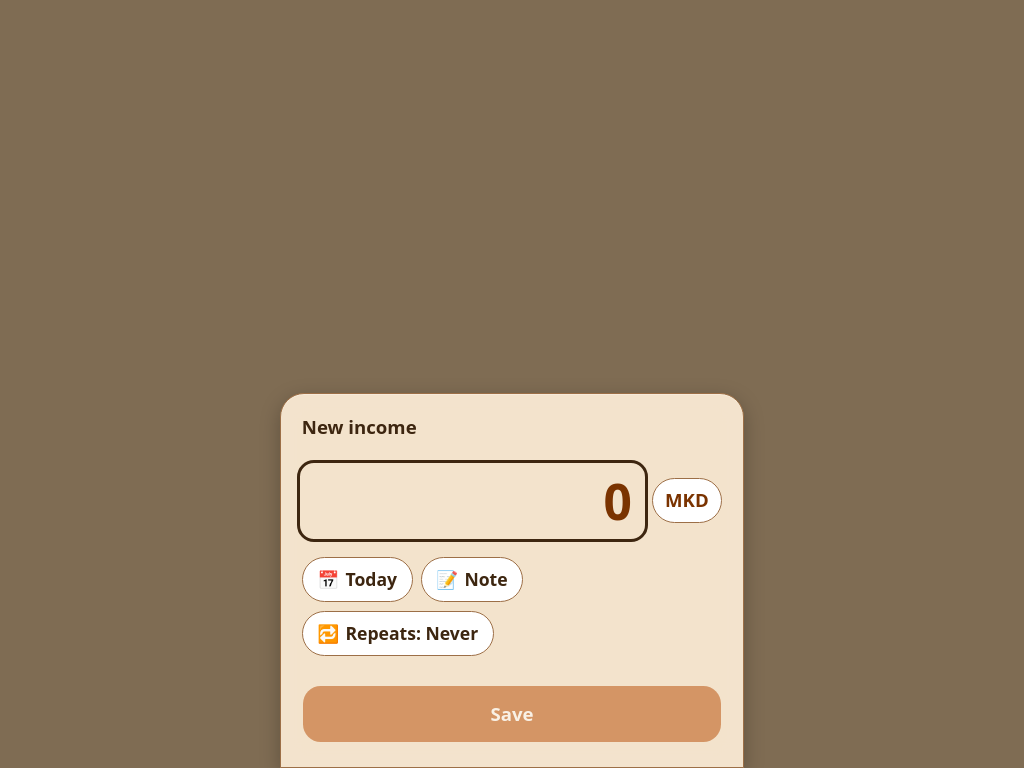
Test case: PersonalIncomeSheet, refused saves › shows the translated message for PERSONAL_ENTRY_AMOUNT_TOO_LARGE above Save
The image size is (1024, 768).
Step 1. Type "65000" into the field named "Amount" → (473, 501), box x1=300 y1=463 x2=646 y2=539
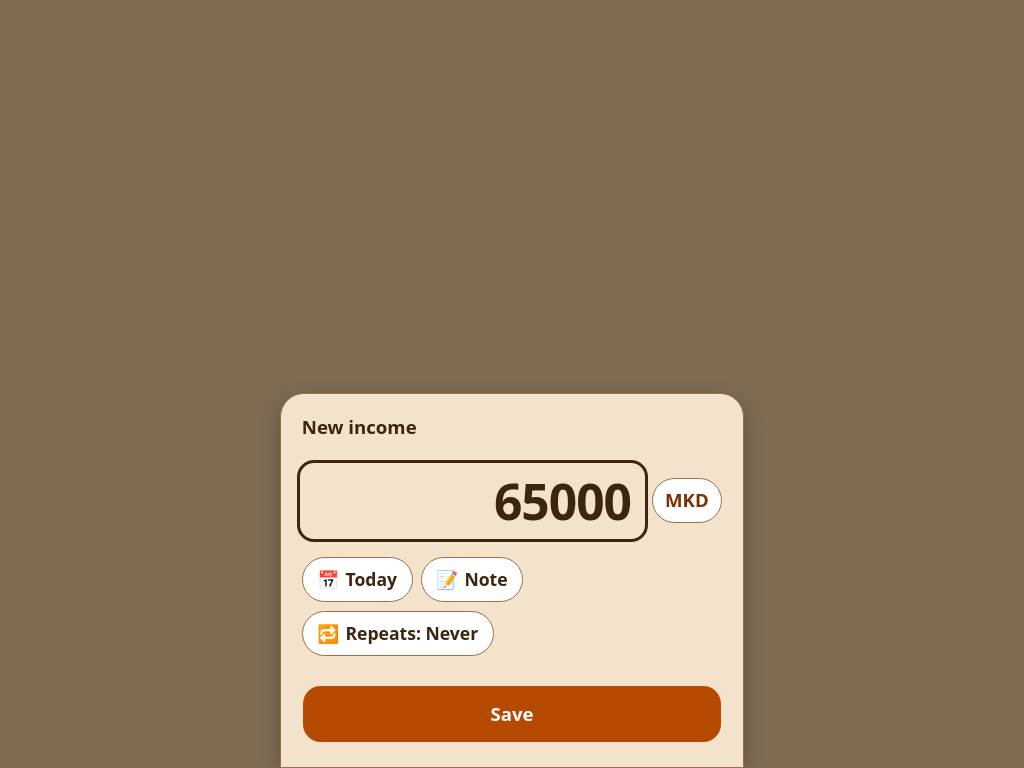
Step 2. Click the button "📝 Note" → (472, 580), box x1=421 y1=557 x2=523 y2=602
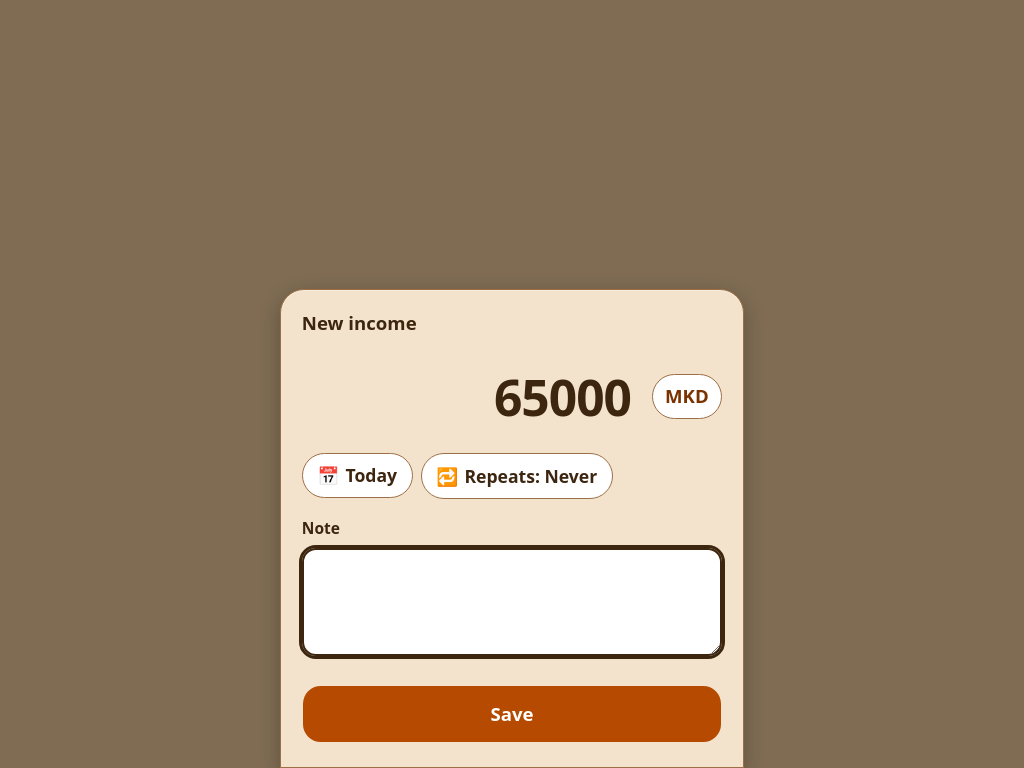
Step 3. Type "Salary" into the text box labelled "Note" → (512, 602), box x1=302 y1=548 x2=722 y2=656
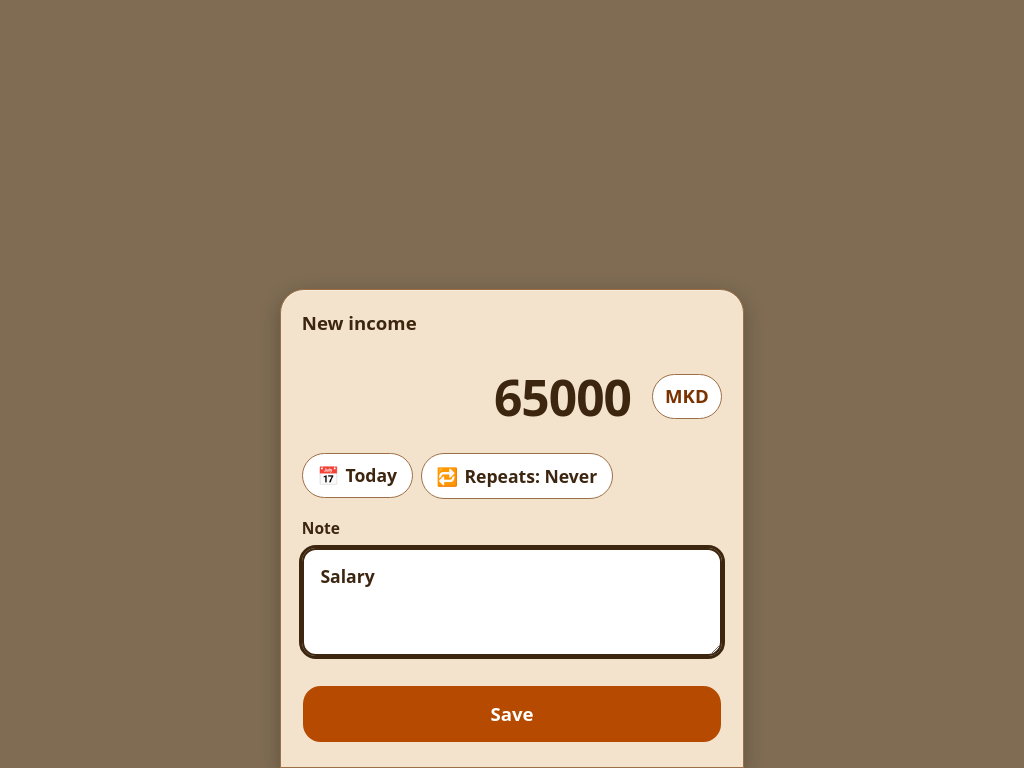
Step 4. Click the button "Save" → (512, 714), box x1=302 y1=685 x2=722 y2=743
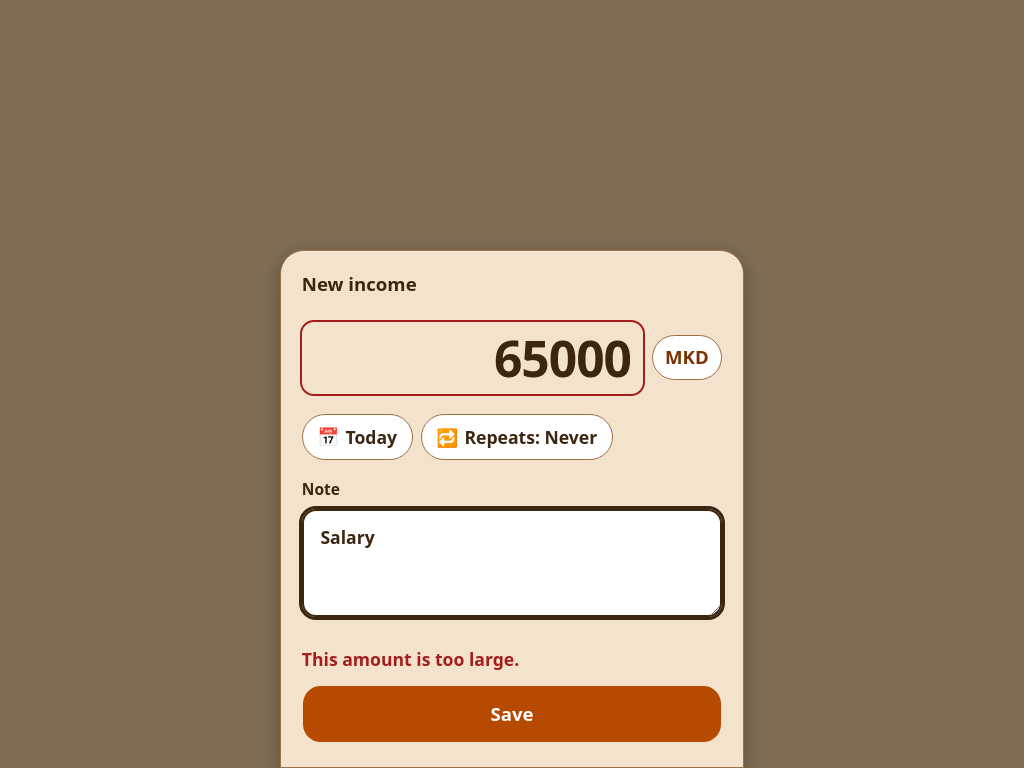
Check: the message reads "This amount is too large.", box x1=302 y1=647 x2=519 y2=671
